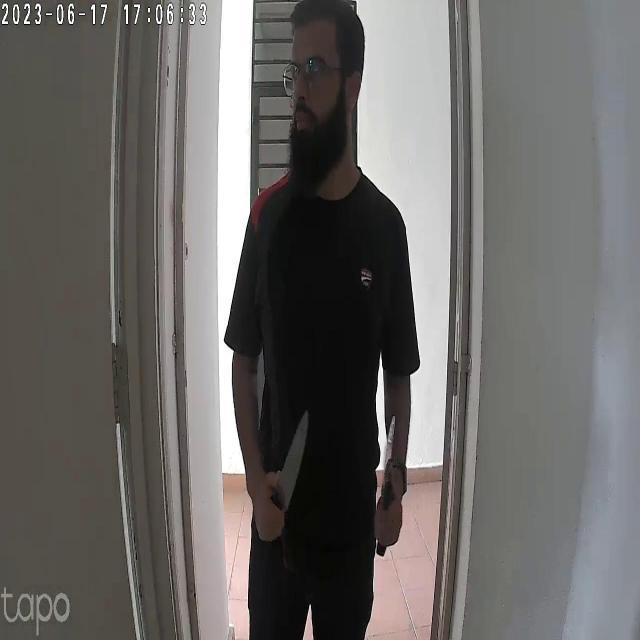Knife: (256, 407, 322, 522), (372, 416, 417, 545)
